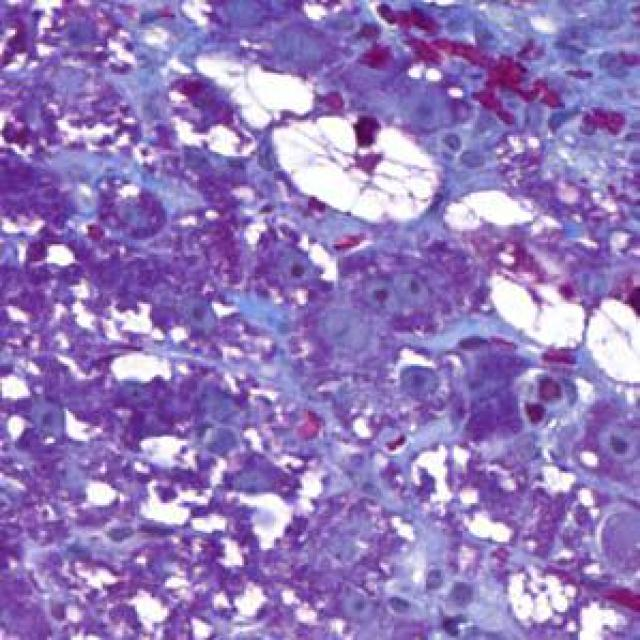ballooning: (272, 105, 445, 237), (482, 240, 593, 353)
